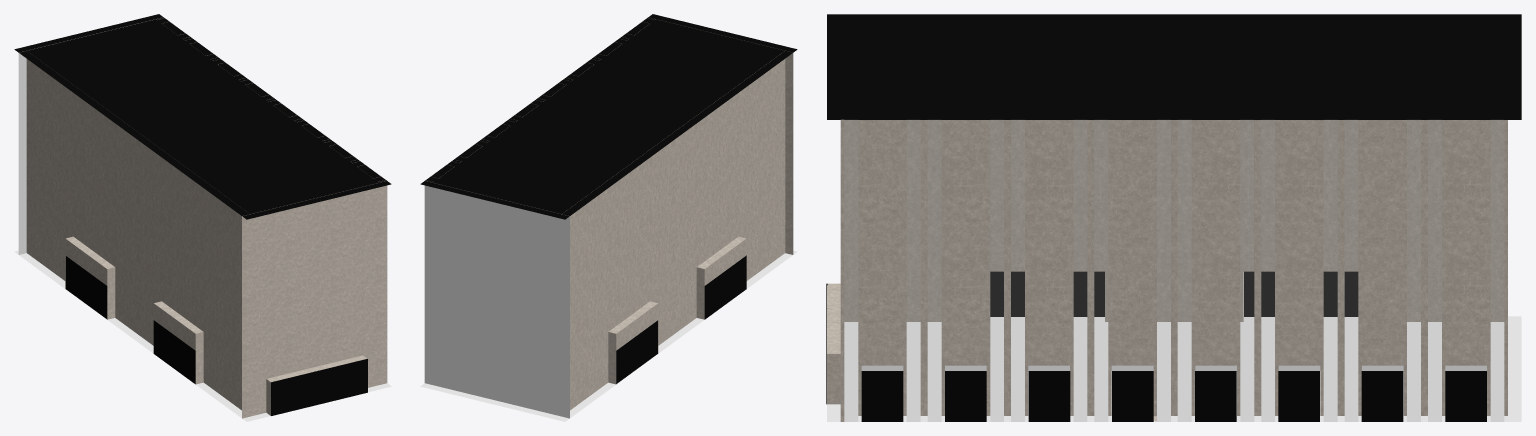
The model's file is Hall acabadoSinCarasExtArregladoMateriales2.0.glb.
3 renders of one model, left to right at view 1: azimuth 30°, elevation 25°; view 2: azimuth 150°, elevation 25°; view 3: azimuth 270°, elevation 25°, orthographic. The views are drawn at different scales.
Parts seen in each view (by area): view 1: Muro museo, Techo metal, Muro Oficina, Muro Fondo, Suelo, puerta.003, puerta.001, puerta.004, puerta.006, puerta.007, puerta, puerta.002 (+2 smaller); view 2: Muro museo, Techo metal, Muro Fondo, Suelo, Muro Oficina; view 3: Muro Ventanas, Techo metal, Ventanas verticales, Muro museo, Suelo, Muro Oficina, Techo iluminado, puerta.022, puerta.024, puerta.025, puerta.026, puerta.029 (+15 smaller).
Part boxes in pixels (x1,y1,x2,y2): Muro museo: (26, 51, 246, 410); Techo metal: (14, 14, 391, 219); Muro Oficina: (242, 181, 387, 418); Muro Fondo: (18, 17, 161, 254); Suelo: (14, 250, 391, 421); puerta.003: (307, 370, 319, 407); puerta.001: (271, 379, 283, 415); puerta.004: (343, 361, 355, 398); puerta.006: (319, 367, 331, 404); puerta.007: (355, 359, 367, 395); puerta: (283, 376, 295, 413); puerta.002: (295, 373, 307, 410); Muro museo: (565, 51, 785, 410); Techo metal: (420, 14, 797, 219); Muro Fondo: (424, 181, 569, 418); Suelo: (420, 250, 797, 421); Muro Oficina: (650, 17, 793, 254); Muro Ventanas: (840, 119, 1507, 421); Techo metal: (827, 14, 1521, 119); Ventanas verticales: (844, 120, 1503, 421); Muro museo: (844, 120, 1504, 321); Suelo: (827, 316, 1521, 421); Muro Oficina: (827, 283, 840, 404); Techo iluminado: (862, 366, 1486, 371); puerta.022: (1278, 371, 1299, 421); puerta.024: (1382, 371, 1403, 421); puerta.025: (1361, 371, 1382, 421); puerta.026: (1445, 371, 1466, 421); puerta.029: (1132, 371, 1153, 421).
Bounding box in the file's own units: 9 × 12 × 25.03.
Materials: 9 (6 with a texture image).
